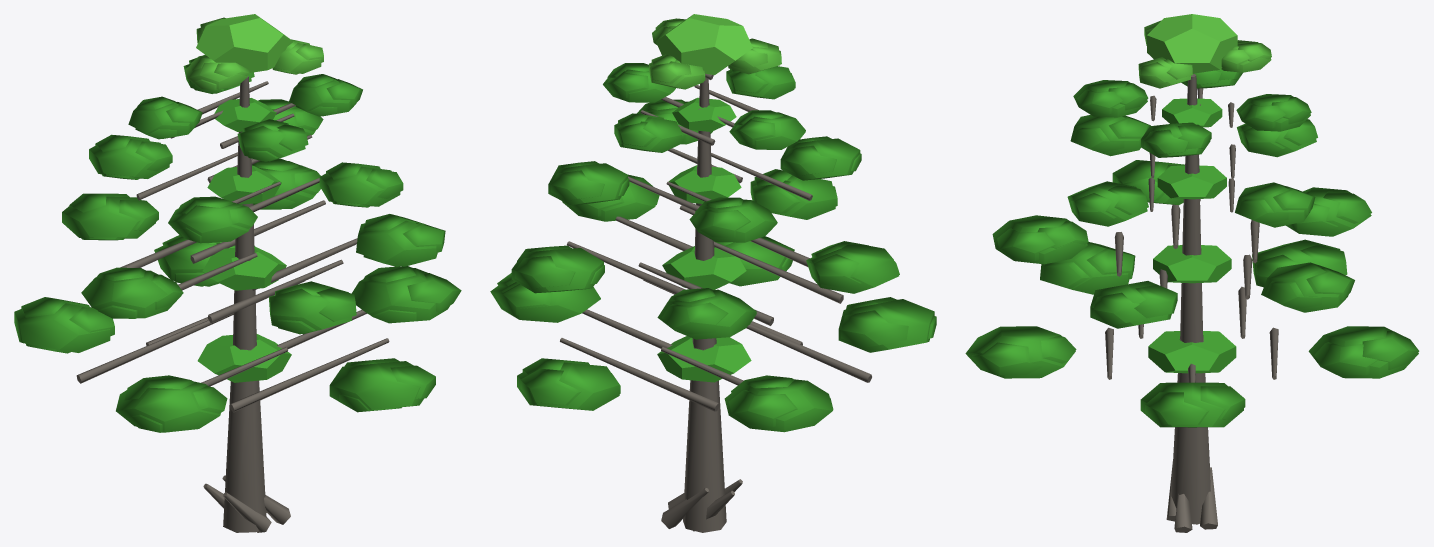
Rendered from tree_bang_dai_loan.glb.
3 renders of one model, left to right at view 1: azimuth 30°, elevation 25°; view 2: azimuth 150°, elevation 25°; view 3: azimuth 270°, elevation 25°, orthographic.
Visible parts, largest first — view 1: Foliage, Trunk, FoliageTop; view 2: Foliage, Trunk, FoliageTop; view 3: Foliage, Trunk, FoliageTop.
Part boxes in pixels (left/top/right/bottom): Foliage: left=14, top=55, right=461, bottom=432; Trunk: left=76, top=76, right=389, bottom=532; FoliageTop: left=185, top=14, right=323, bottom=90; Foliage: left=490, top=63, right=936, bottom=432; Trunk: left=560, top=74, right=871, bottom=532; FoliageTop: left=649, top=14, right=781, bottom=89; Foliage: left=965, top=69, right=1419, bottom=427; Trunk: left=1105, top=74, right=1278, bottom=532; FoliageTop: left=1138, top=14, right=1271, bottom=88.
Bounding box in the file's own units: 6.23 × 7.93 × 6.55.
